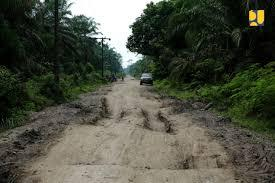Pothole: (66, 102, 219, 171)
